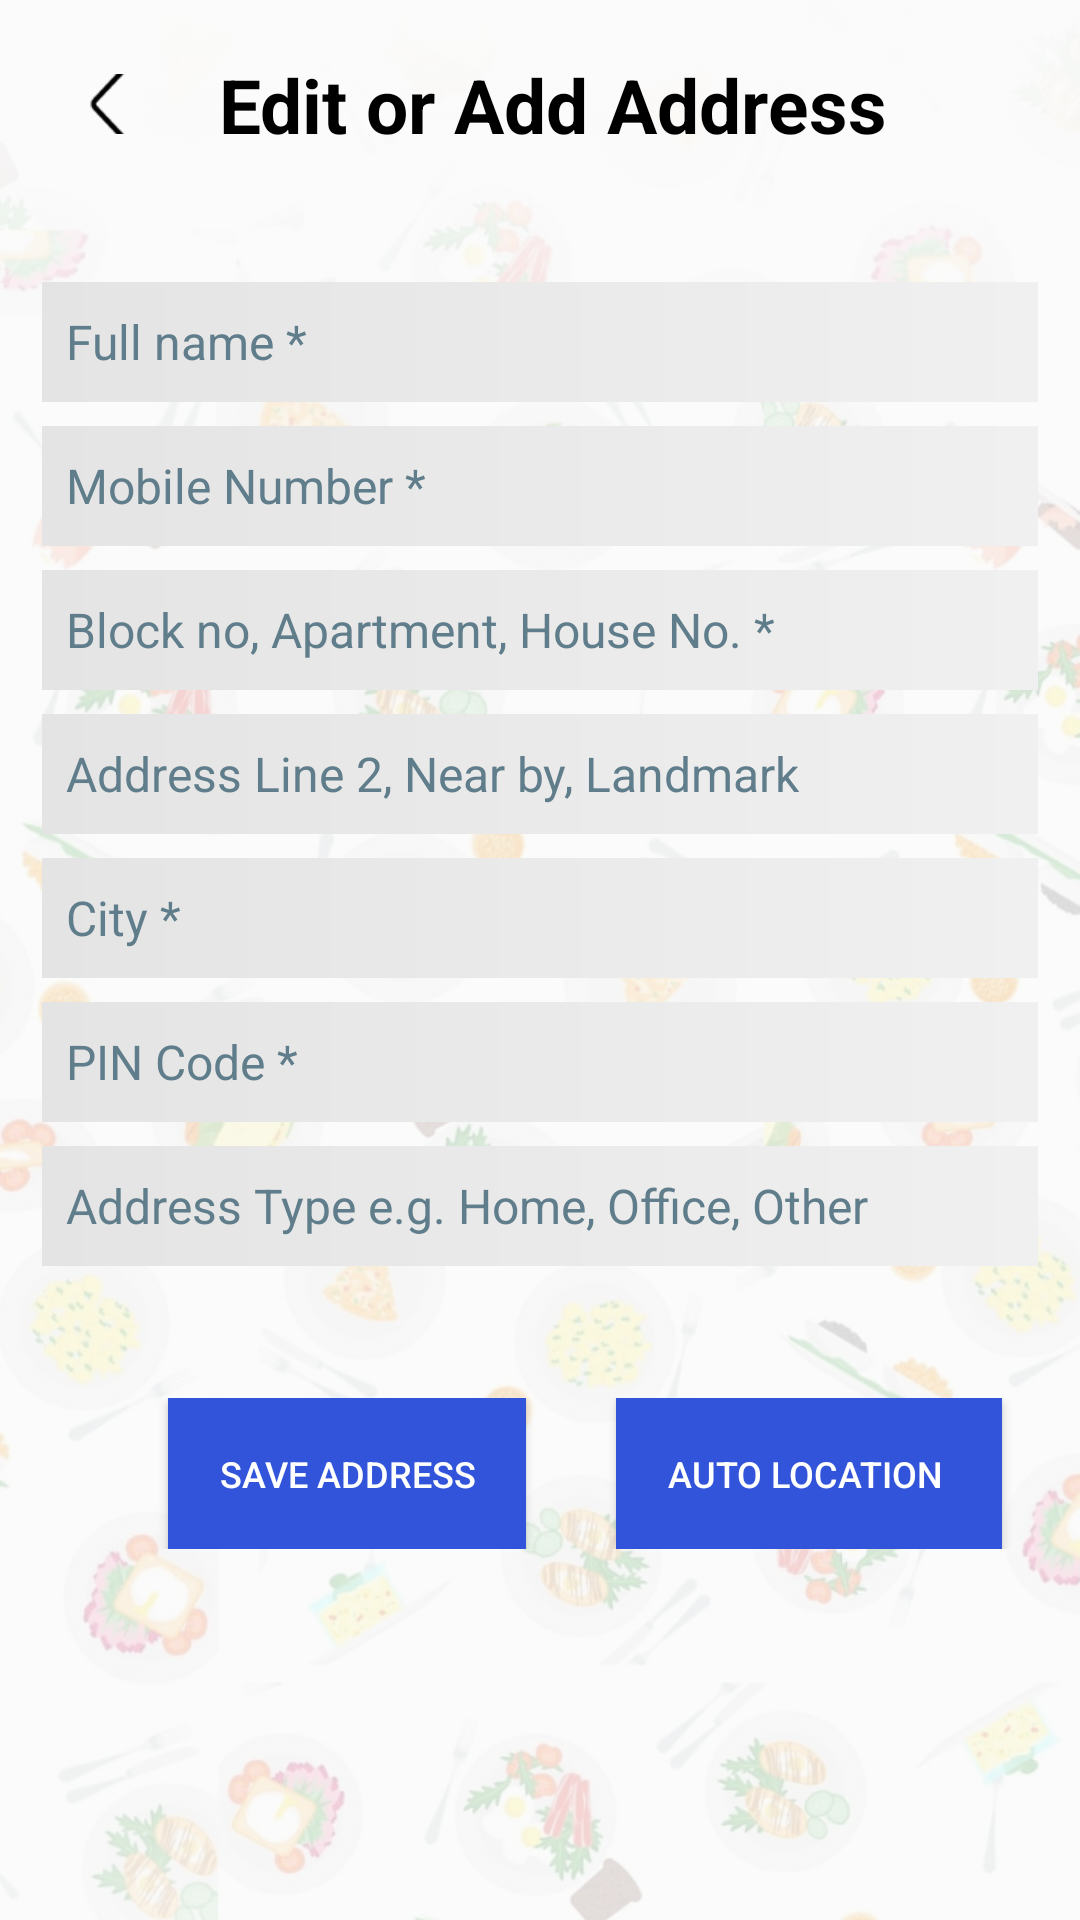

Screen size 1080px x 1920px. Icon name, then its center in pixels as (x=x, y=y):
left: (x=107, y=104)
